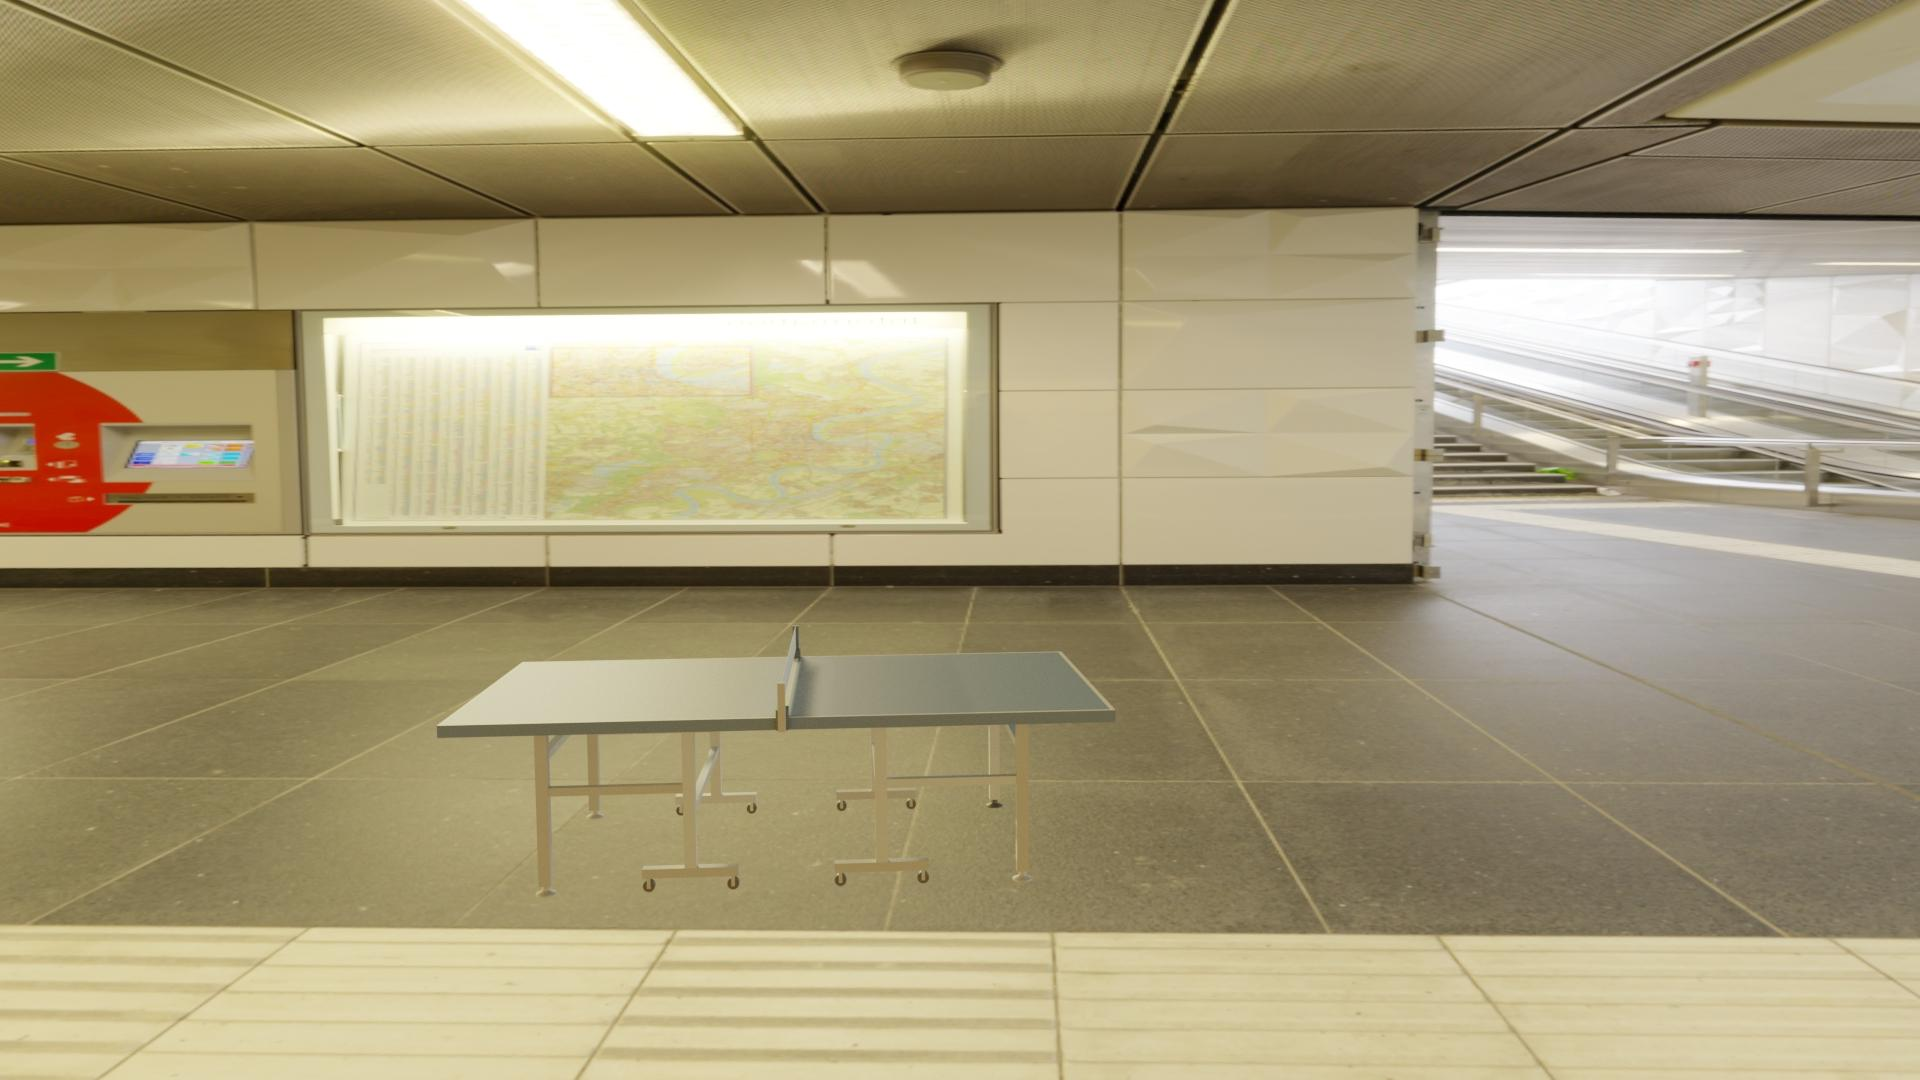table: (443, 652, 1110, 725)
